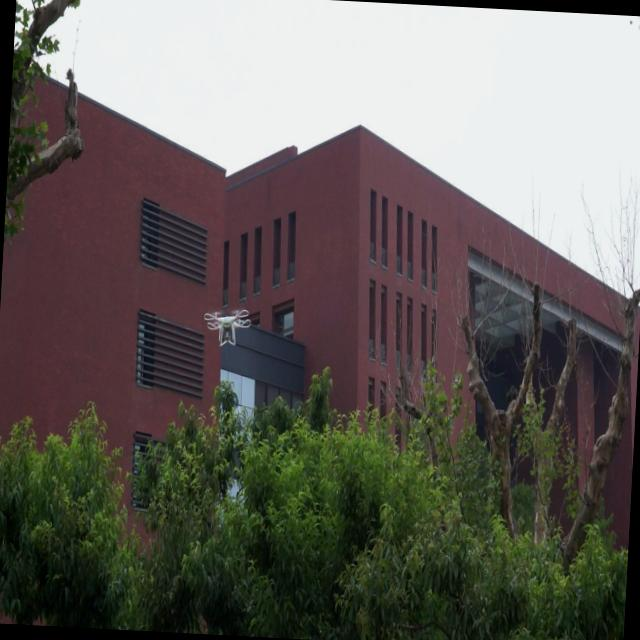drone: (202, 304, 254, 351)
